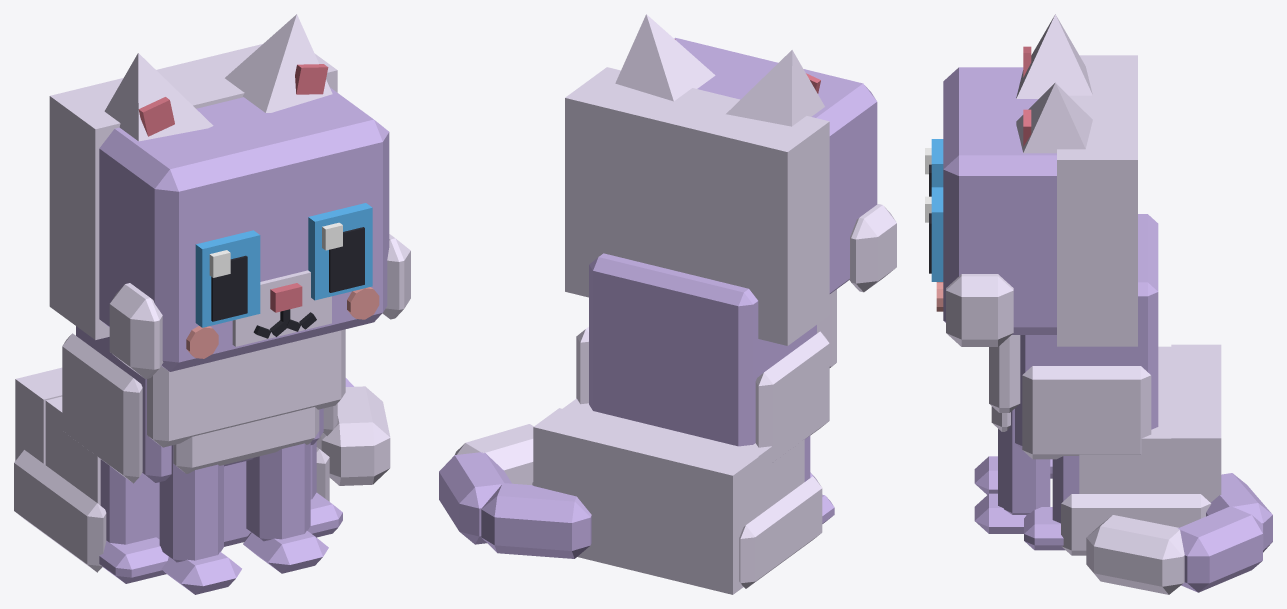
Rendered from CleanACat_Cat_LilacCloud_Sit.fbx.
3 views of the same model, side by side, from view 1: azimuth 30°, elevation 25°; view 2: azimuth 150°, elevation 25°; view 3: azimuth 270°, elevation 25° (orthographic). The views are drawn at different scales.
Visible parts, largest first — view 1: CleanACat_Cat_LilacCloud_Sit_Head, CleanACat_Cat_LilacCloud_Sit_Body, CleanACat_Cat_LilacCloud_Sit_LegF2, CleanACat_Cat_LilacCloud_Sit_LegF1, CleanACat_Cat_LilacCloud_Sit_EarL, CleanACat_Cat_LilacCloud_Sit_Eye2, CleanACat_Cat_LilacCloud_Sit_Eye1, CleanACat_Cat_LilacCloud_Sit_Tail, CleanACat_Cat_LilacCloud_Sit_EarR; view 2: CleanACat_Cat_LilacCloud_Sit_Body, CleanACat_Cat_LilacCloud_Sit_Head, CleanACat_Cat_LilacCloud_Sit_Tail, CleanACat_Cat_LilacCloud_Sit_EarL, CleanACat_Cat_LilacCloud_Sit_EarR; view 3: CleanACat_Cat_LilacCloud_Sit_Head, CleanACat_Cat_LilacCloud_Sit_Body, CleanACat_Cat_LilacCloud_Sit_Tail, CleanACat_Cat_LilacCloud_Sit_LegF1, CleanACat_Cat_LilacCloud_Sit_EarR, CleanACat_Cat_LilacCloud_Sit_EarL, CleanACat_Cat_LilacCloud_Sit_Eye1, CleanACat_Cat_LilacCloud_Sit_Eye2, CleanACat_Cat_LilacCloud_Sit_LegF2.
Part boxes in pixels (<box>): CleanACat_Cat_LilacCloud_Sit_Head: <box>49,44,410,379</box>; CleanACat_Cat_LilacCloud_Sit_Body: <box>14,326,345,583</box>; CleanACat_Cat_LilacCloud_Sit_LegF2: <box>159,445,241,594</box>; CleanACat_Cat_LilacCloud_Sit_LegF1: <box>243,443,328,573</box>; CleanACat_Cat_LilacCloud_Sit_EarL: <box>225,14,332,112</box>; CleanACat_Cat_LilacCloud_Sit_Eye2: <box>195,230,260,327</box>; CleanACat_Cat_LilacCloud_Sit_Eye1: <box>308,203,372,300</box>; CleanACat_Cat_LilacCloud_Sit_Tail: <box>316,378,390,485</box>; CleanACat_Cat_LilacCloud_Sit_EarR: <box>104,53,213,141</box>; CleanACat_Cat_LilacCloud_Sit_Body: <box>532,253,836,594</box>; CleanACat_Cat_LilacCloud_Sit_Head: <box>565,37,896,345</box>; CleanACat_Cat_LilacCloud_Sit_Tail: <box>439,424,591,558</box>; CleanACat_Cat_LilacCloud_Sit_EarL: <box>615,14,715,101</box>; CleanACat_Cat_LilacCloud_Sit_EarR: <box>726,50,824,126</box>; CleanACat_Cat_LilacCloud_Sit_Head: <box>936,55,1137,346</box>; CleanACat_Cat_LilacCloud_Sit_Body: <box>989,214,1221,555</box>; CleanACat_Cat_LilacCloud_Sit_Tail: <box>1086,473,1272,594</box>; CleanACat_Cat_LilacCloud_Sit_LegF1: <box>974,409,1050,533</box>; CleanACat_Cat_LilacCloud_Sit_EarR: <box>1016,14,1092,98</box>; CleanACat_Cat_LilacCloud_Sit_EarL: <box>1016,82,1092,153</box>; CleanACat_Cat_LilacCloud_Sit_Eye1: <box>925,187,943,281</box>; CleanACat_Cat_LilacCloud_Sit_Eye2: <box>925,139,943,196</box>; CleanACat_Cat_LilacCloud_Sit_LegF2: <box>974,456,997,494</box>.
Size of the model in its own units: 1.36 by 1.85 by 1.27.
1 material, 1 textured.
